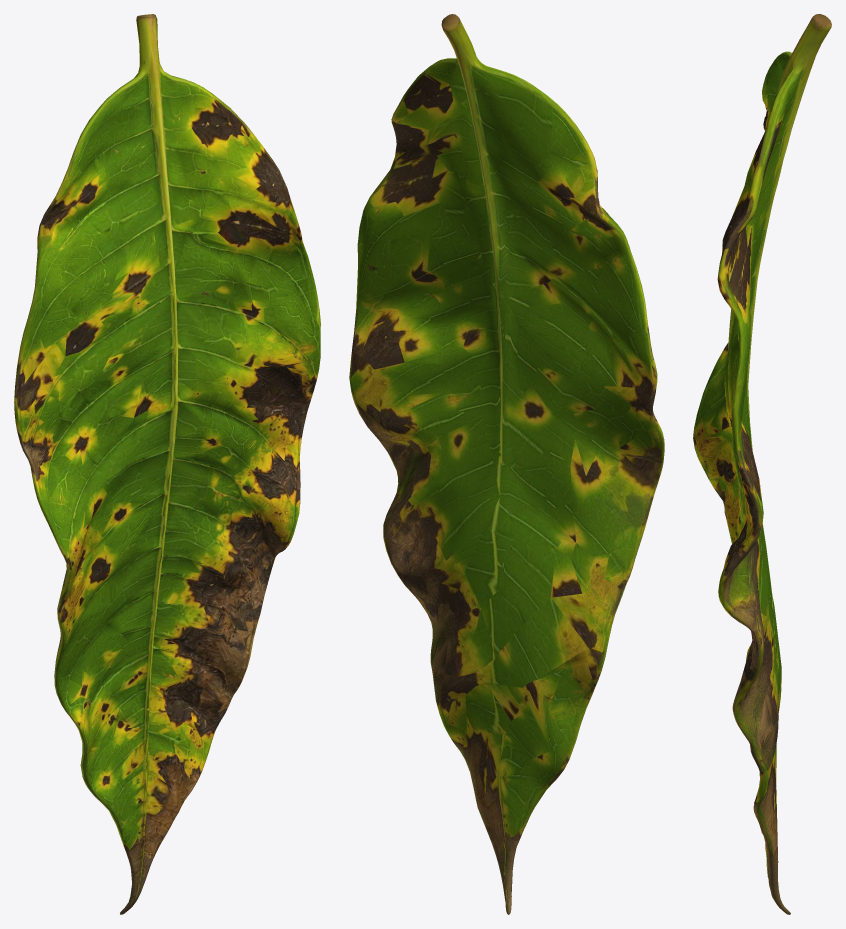
File: mango_bacterial_canker.glb
3 views of the same model, side by side, from view 1: azimuth 30°, elevation 25°; view 2: azimuth 150°, elevation 25°; view 3: azimuth 270°, elevation 25° (orthographic). The views are drawn at different scales.
Visible parts, largest first — view 1: mango_bacterial_canker; view 2: mango_bacterial_canker; view 3: mango_bacterial_canker.
Part boxes in pixels (<box>): mango_bacterial_canker: <box>14,14,320,914</box>; mango_bacterial_canker: <box>349,14,664,914</box>; mango_bacterial_canker: <box>693,14,831,914</box>.
Bounding box in the file's own units: 0.3557 × 1 × 0.1368.
1 material, 1 textured.
